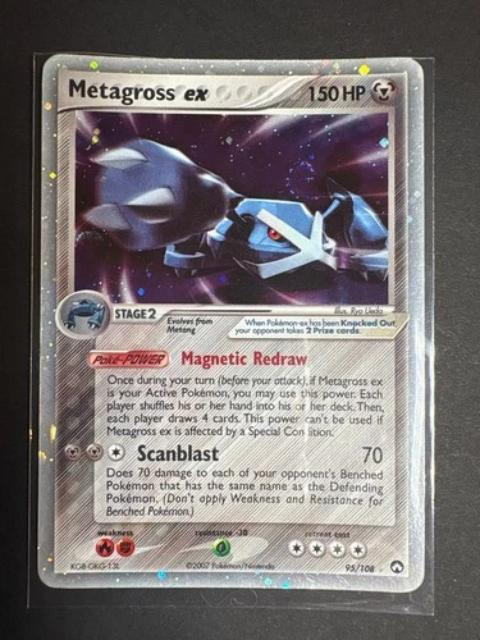Card: (32, 49, 430, 600)
Name: (62, 73, 214, 108)
